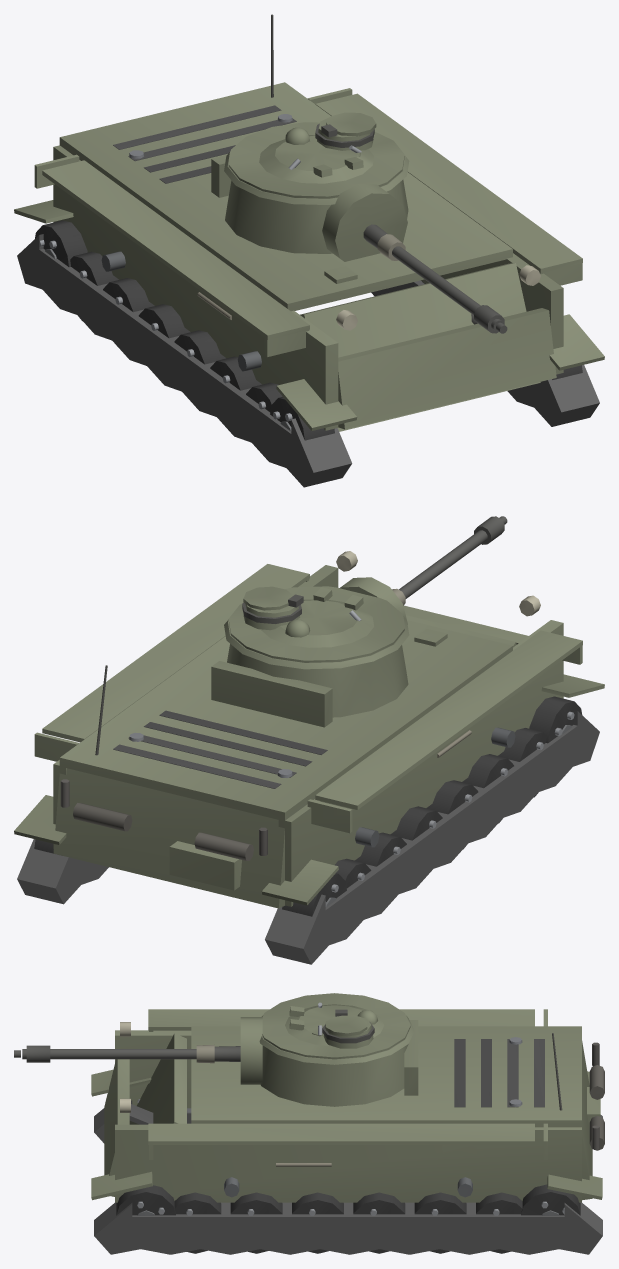
3 renders of one model, top to bottom at view 1: azimuth 30°, elevation 25°; view 2: azimuth 150°, elevation 25°; view 3: azimuth 270°, elevation 25°, orthographic. The views are drawn at different scales.
Visible parts, largest first — view 1: hullSide, hullTop, tracks, lowerPlate, turretRoof, glacis, turretFront, mantlet, barrel, wheel7, turretSide, wheel3 (+7 smaller); view 2: hullSide, hullTop, tracks, hullRear, turretRoof, turretFront, turretRear, barrel, turretSide, wheel6, lowerPlate, wheel4 (+8 smaller); view 3: hullSide, hullTop, tracks, turretRoof, turretFront, glacis, barrel, hullRear, lowerPlate, mantlet, wheel14, wheel15 (+8 smaller).
Boxes of the visible parts, x1,y1,x2,y2 form: hullSide: [34, 88, 582, 430]; hullTop: [59, 82, 512, 311]; tracks: [14, 200, 604, 487]; lowerPlate: [338, 308, 556, 429]; turretRoof: [228, 112, 404, 198]; glacis: [300, 263, 540, 431]; turretFront: [225, 179, 408, 253]; mantlet: [322, 184, 407, 261]; barrel: [363, 224, 507, 333]; wheel7: [35, 220, 87, 267]; turretSide: [224, 151, 409, 204]; wheel3: [174, 330, 225, 364]; hullSide: [34, 551, 582, 906]; hullTop: [59, 620, 512, 820]; tracks: [14, 674, 604, 964]; hullRear: [53, 665, 286, 908]; turretRoof: [228, 586, 404, 662]; turretFront: [227, 644, 408, 717]; turretRear: [211, 661, 332, 727]; barrel: [392, 516, 507, 605]; turretSide: [224, 615, 409, 669]; wheel6: [529, 696, 582, 743]; lowerPlate: [403, 605, 528, 644]; wheel4: [462, 754, 513, 823]; hullSide: [115, 1009, 581, 1202]; hullTop: [191, 1026, 581, 1127]; tracks: [91, 1069, 602, 1254]; turretRoof: [262, 993, 410, 1059]; turretFront: [260, 1044, 408, 1106]; glacis: [129, 1033, 186, 1124]; barrel: [14, 1045, 240, 1063]; hullRear: [552, 1033, 604, 1200]; lowerPlate: [104, 1059, 129, 1196]; mantlet: [240, 1017, 262, 1084]; wheel14: [116, 1185, 175, 1215]; wheel15: [521, 1184, 580, 1215].
Size of the model in its own units: 4.48 by 3.13 by 8.48.
